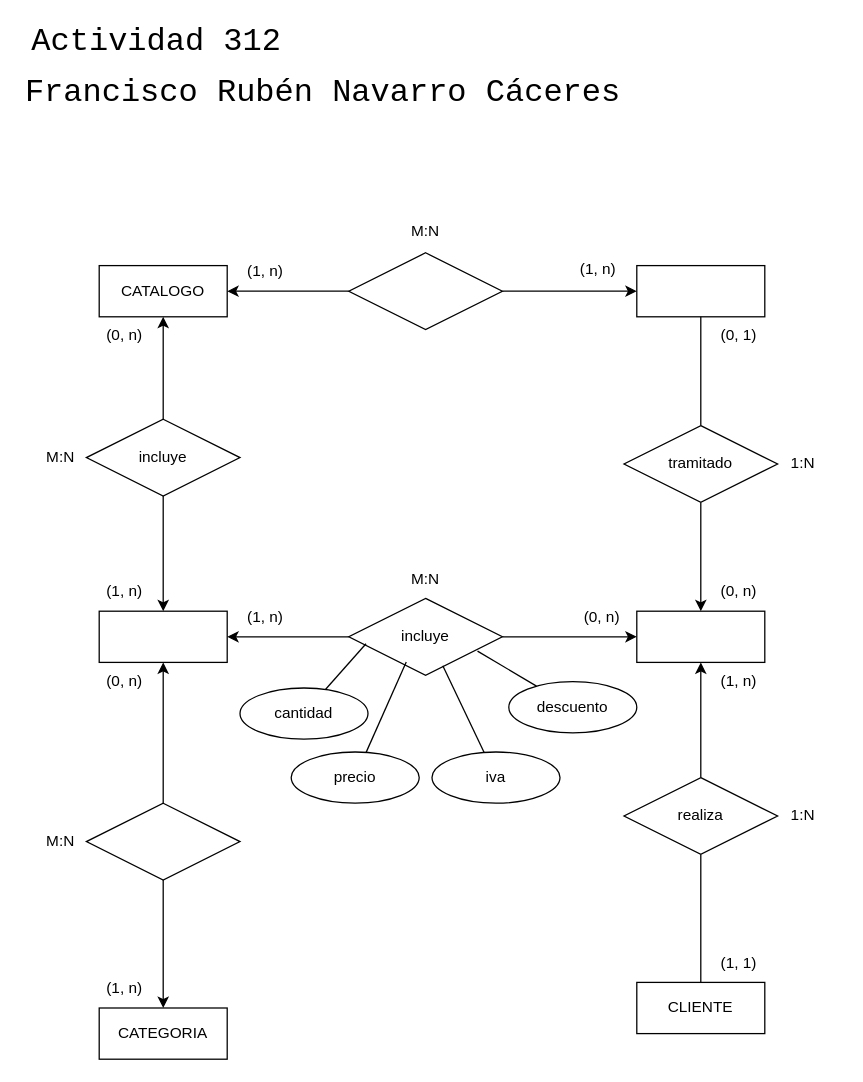
Some shapes in this 863 by 1082 pixel diagram are drawn without their labels. The shapes that lost their labels are listed below. From the top down, each one's centre as x and y in pixels, then its label:
the point at 425,291: asignado
the point at 700,290: COMERCIAL
the point at 162,636: PRODUCTO
the point at 700,636: PEDIDO
the point at 162,841: pertenece
